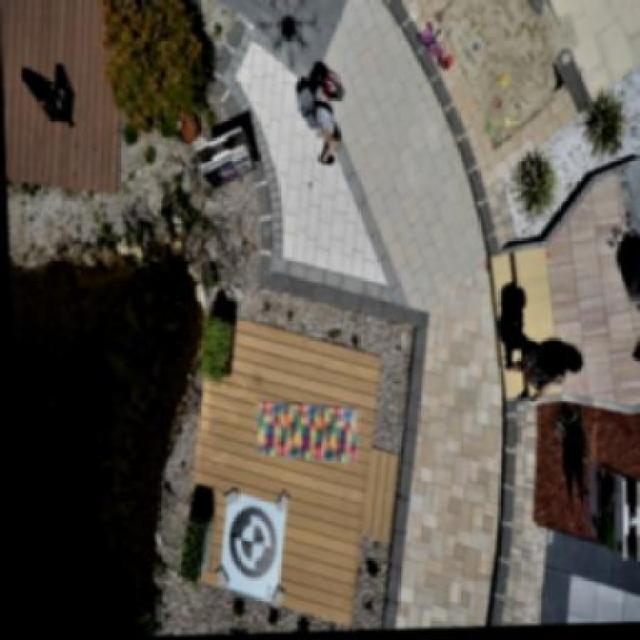Person: (300, 62, 362, 183), (504, 338, 591, 402)
